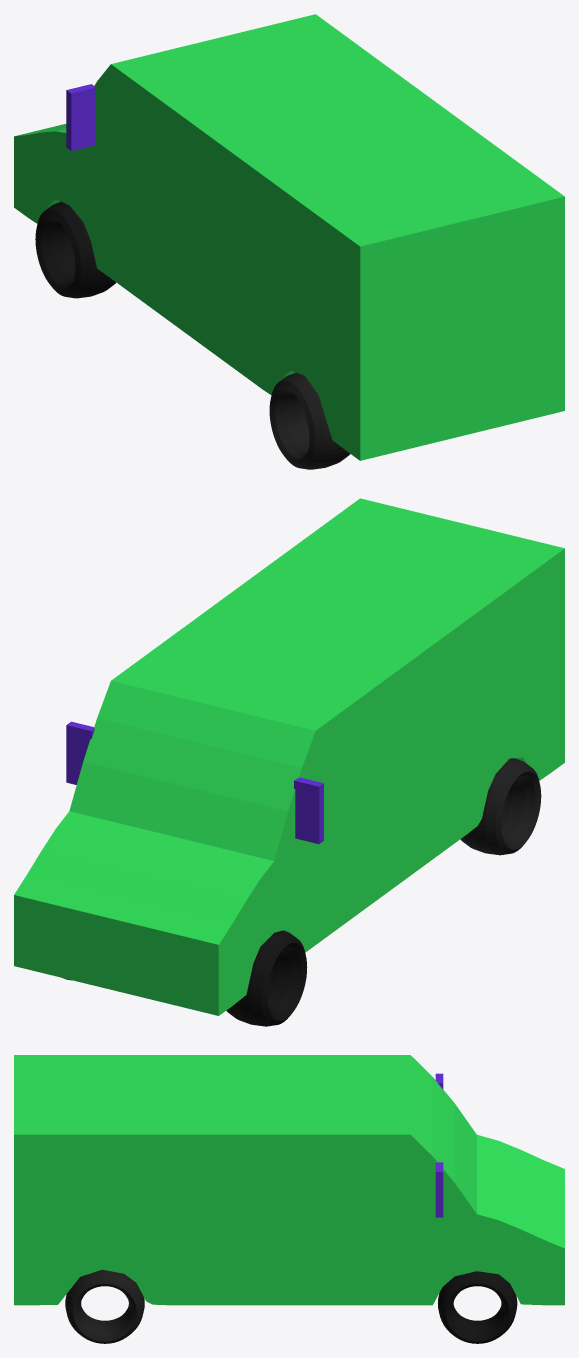
File: enemytruck.fbx
3 renders of one model, top to bottom at view 1: azimuth 30°, elevation 25°; view 2: azimuth 150°, elevation 25°; view 3: azimuth 270°, elevation 25°, orthographic. The views are drawn at different scales.
Visible parts, largest first — view 1: Cube, Torus.001, Torus, Cube.001; view 2: Cube, Torus, Torus.001, Cube.001; view 3: Cube, Torus.001, Torus, Cube.001.
Part boxes in pixels (box(x1,y1,x2,y2)): Cube: box(14, 14, 564, 460); Torus.001: box(269, 372, 349, 469); Torus: box(35, 201, 115, 298); Cube.001: box(66, 84, 95, 150); Cube: box(14, 498, 564, 1015); Torus: box(63, 930, 307, 1026); Torus.001: box(460, 758, 541, 855); Cube.001: box(66, 721, 323, 843); Cube: box(14, 1055, 564, 1305); Torus.001: box(65, 1269, 144, 1343); Torus: box(438, 1271, 517, 1343); Cube.001: box(435, 1073, 443, 1217).
Bounding box in the file's own units: 247 × 245 × 585.
